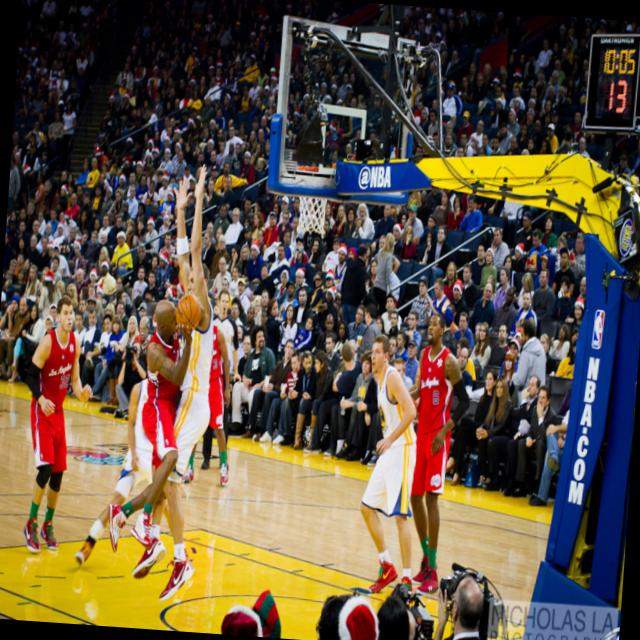Ball: (173, 292, 203, 338)
